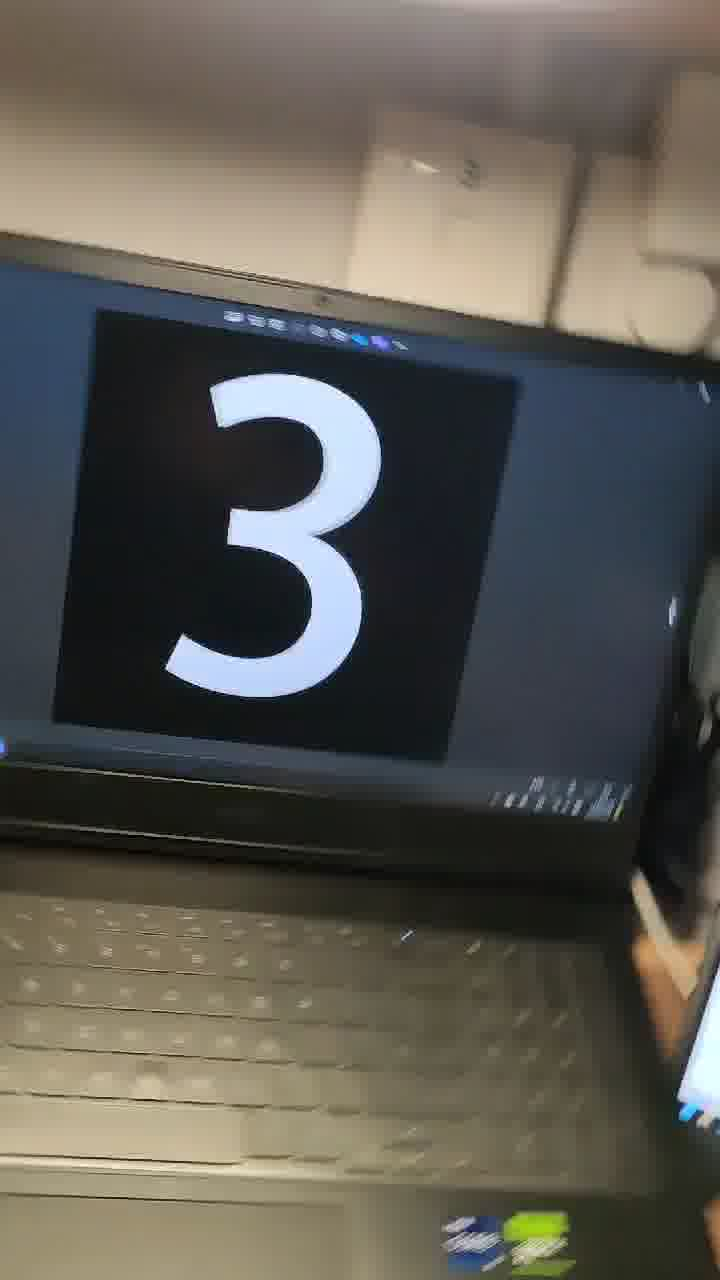three: (112, 344, 428, 783)
